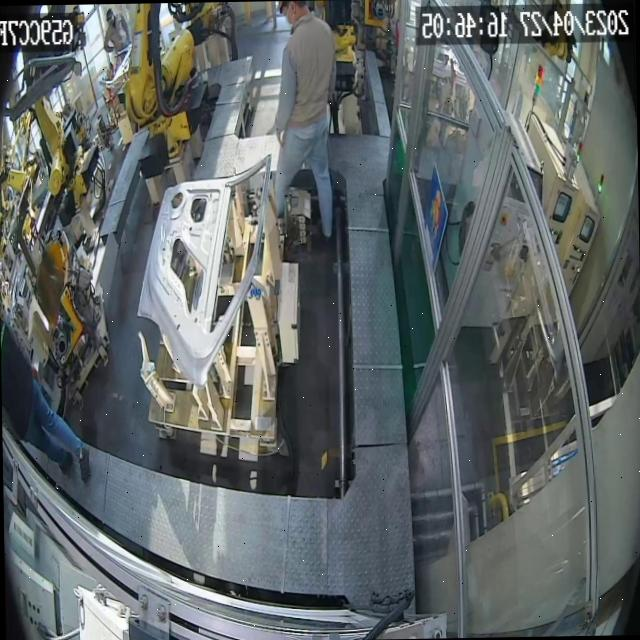Person: (270, 0, 339, 241), (0, 316, 91, 485), (23, 370, 90, 484), (103, 7, 131, 76)
